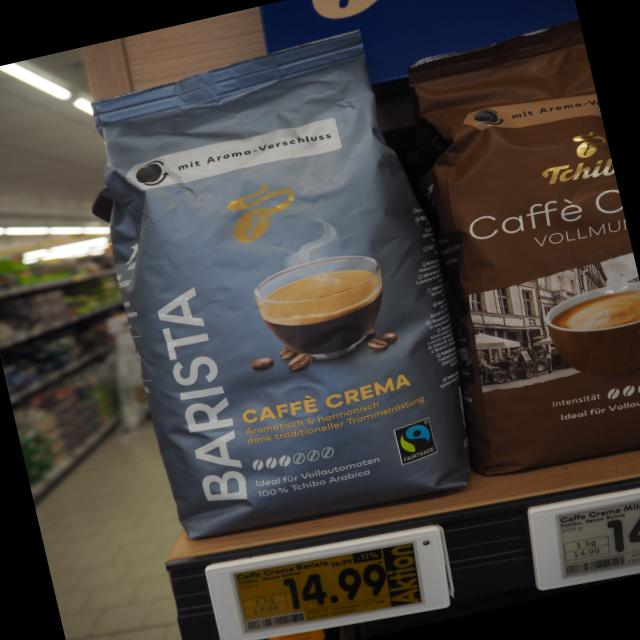Barista CC: (58, 15, 504, 564)
CC Vollmundig 36 Pads: (380, 15, 640, 491)
